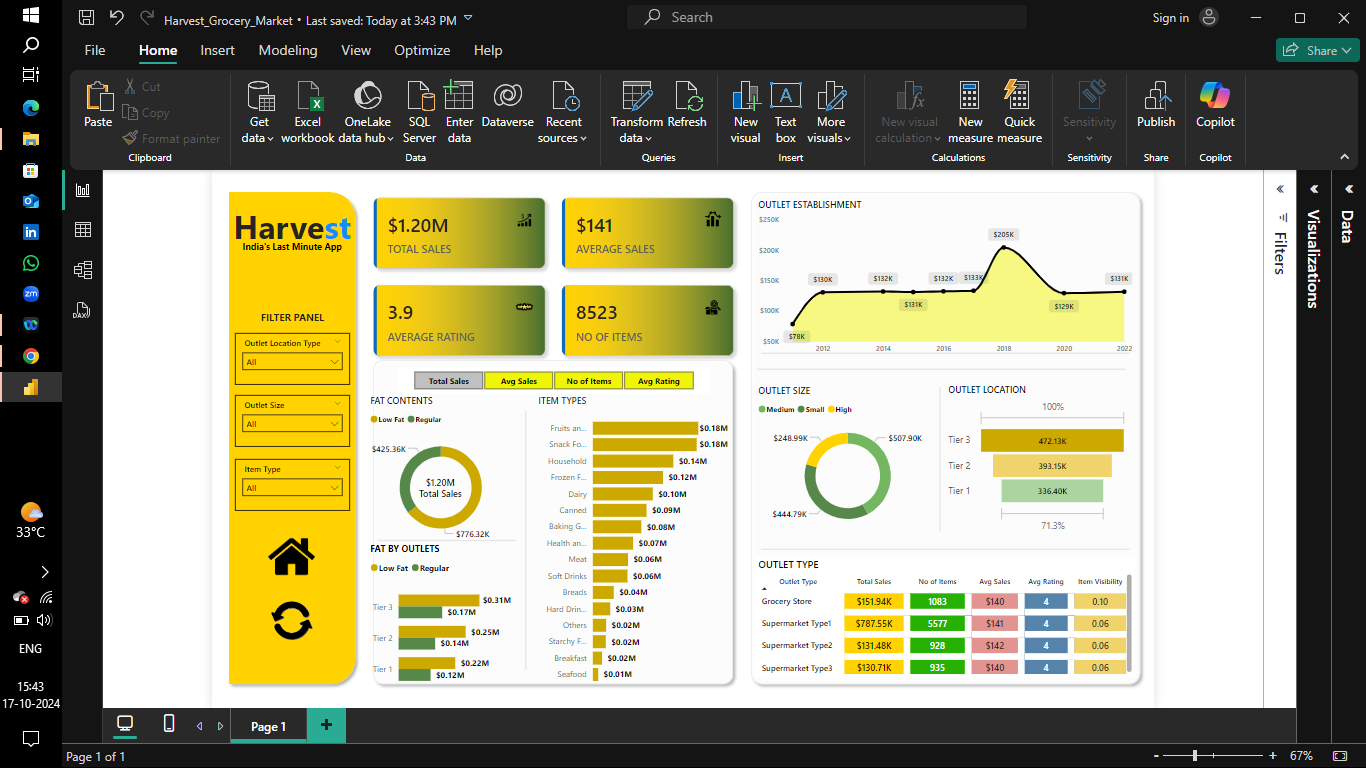

The page's visual inventory and layout, read from the dashboard file:
{"tool":"powerbi","page":{"name":"Page 1","canvas":[1400,800],"ordinal":0},"visuals":[{"type":"shape","box":[16,24,206,750],"z":0},{"type":"textbox","box":[16,46,206,82],"z":1000},{"type":"textbox","box":[26,100,188,28],"z":2000},{"type":"cardVisual","fields":{"Data":["Grocery Market Data.Total Sales","Grocery Market Data.Avg Sales","Grocery Market Data.Avg Rating","Grocery Market Data.No of Items"]},"box":[222.7,23.7,570.1,270.1],"z":3000},{"type":"shape","box":[230.6,274.2,553.2,500],"z":4000},{"type":"donutChart","title":"FAT CONTENTS","fields":{"Y":["Grocery Market Data.Total Sales"],"Category":["Grocery Market Data.Item Fat Content"]},"box":[230.6,333.9,219.4,230.6],"z":5000},{"type":"slicer","fields":{"Values":["Matrics.Matrics"]},"box":[275.8,293.5,464.5,40.3],"z":6000},{"type":"cardVisual","fields":{"Data":["Grocery Market Data.Total Sales"]},"box":[285.5,433.9,108.1,75.8],"z":7000},{"type":"clusteredBarChart","title":"FAT BY OUTLETS","fields":{"Y":["Grocery Market Data.Total Sales"],"Category":["Grocery Market Data.Outlet Location Type"],"Series":["Grocery Market Data.Item Fat Content"]},"box":[230.6,554.8,219.4,230.6],"z":8000},{"type":"shape","box":[246.8,541.9,204.8,19.4],"z":9000},{"type":"shape","box":[451.6,358.1,29,385.5],"z":10000},{"type":"barChart","title":"ITEM TYPES","fields":{"Y":["Grocery Market Data.Total Sales"],"Category":["Grocery Market Data.Item Type"]},"box":[480.6,333.9,291.9,440.3],"z":11000},{"type":"shape","box":[791.9,24.2,596.8,750],"z":12000},{"type":"lineChart","title":"OUTLET ESTABLISHMENT","fields":{"Y":["Grocery Market Data.Total Sales"],"Category":["Grocery Market Data.Outlet Establishment Year"]},"box":[808.1,43.5,566.1,240.3],"z":13000},{"type":"shape","box":[816.1,267.7,548.4,9.7],"z":14000},{"type":"donutChart","title":"OUTLET SIZE","fields":{"Y":["Grocery Market Data.Total Sales"],"Category":["Grocery Market Data.Outlet Size"]},"box":[808.1,319.4,275.8,225.8],"z":15000},{"type":"shape","box":[1075.8,322.6,14.5,214.5],"z":16000},{"type":"funnel","title":"OUTLET LOCATION","fields":{"Y":["Sum(Grocery Market Data.Sales)"],"Category":["Grocery Market Data.Outlet Location Type"]},"box":[1090.3,317.7,275.8,225.8],"z":17000},{"type":"shape","box":[816.1,559.7,548.4,9.7],"z":18000},{"type":"pivotTable","title":"OUTLET TYPE","fields":{"Rows":["Grocery Market Data.Outlet Type"],"Values":["Grocery Market Data.Total Sales","Grocery Market Data.No of Items","Grocery Market Data.Avg Sales","Grocery Market Data.Avg Rating","Avg(Grocery Market Data.Item Visibility)"]},"box":[808.1,575.8,566.1,179],"z":19000},{"type":"shape","box":[809.7,291.9,548.4,9.7],"z":20000},{"type":"slicer","fields":{"Values":["Grocery Market Data.Outlet Location Type"]},"box":[33.9,241.9,171,77.4],"z":21000},{"type":"slicer","fields":{"Values":["Grocery Market Data.Outlet Size"]},"box":[33.9,333.9,171,77.4],"z":22000},{"type":"slicer","fields":{"Values":["Grocery Market Data.Item Type"]},"box":[33.9,429,171,77.4],"z":23000},{"type":"textbox","box":[45.2,203.2,150,35.5],"z":24000},{"type":"image","box":[75.8,535.5,85.5,79],"z":25000},{"type":"image","box":[75.8,630.6,85.5,79],"z":26000}]}

Visuals, with their boxes on the page's 1400x800 design canvas (x1, y1, x2, y2). These are canvas units, not pixel positions in the 1366x768 screenshot, which may show the page scaled, cropped or inside an application window:
shape: (x1=16, y1=24, x2=222, y2=774)
textbox: (x1=16, y1=46, x2=222, y2=128)
textbox: (x1=26, y1=100, x2=214, y2=128)
cardVisual - Grocery Market Data.Total Sales x Grocery Market Data.Avg Sales: (x1=223, y1=24, x2=793, y2=294)
shape: (x1=231, y1=274, x2=784, y2=774)
"FAT CONTENTS" donutChart: (x1=231, y1=334, x2=450, y2=564)
slicer - Matrics.Matrics: (x1=276, y1=294, x2=740, y2=334)
cardVisual - Grocery Market Data.Total Sales: (x1=286, y1=434, x2=394, y2=510)
"FAT BY OUTLETS" clusteredBarChart: (x1=231, y1=555, x2=450, y2=785)
shape: (x1=247, y1=542, x2=452, y2=561)
shape: (x1=452, y1=358, x2=481, y2=744)
"ITEM TYPES" barChart: (x1=481, y1=334, x2=772, y2=774)
shape: (x1=792, y1=24, x2=1389, y2=774)
"OUTLET ESTABLISHMENT" lineChart: (x1=808, y1=44, x2=1374, y2=284)
shape: (x1=816, y1=268, x2=1364, y2=277)
"OUTLET SIZE" donutChart: (x1=808, y1=319, x2=1084, y2=545)
shape: (x1=1076, y1=323, x2=1090, y2=537)
"OUTLET LOCATION" funnel: (x1=1090, y1=318, x2=1366, y2=544)
shape: (x1=816, y1=560, x2=1364, y2=569)
"OUTLET TYPE" pivotTable: (x1=808, y1=576, x2=1374, y2=755)
shape: (x1=810, y1=292, x2=1358, y2=302)
slicer - Grocery Market Data.Outlet Location Type: (x1=34, y1=242, x2=205, y2=319)
slicer - Grocery Market Data.Outlet Size: (x1=34, y1=334, x2=205, y2=411)
slicer - Grocery Market Data.Item Type: (x1=34, y1=429, x2=205, y2=506)
textbox: (x1=45, y1=203, x2=195, y2=239)
image: (x1=76, y1=536, x2=161, y2=614)
image: (x1=76, y1=631, x2=161, y2=710)
